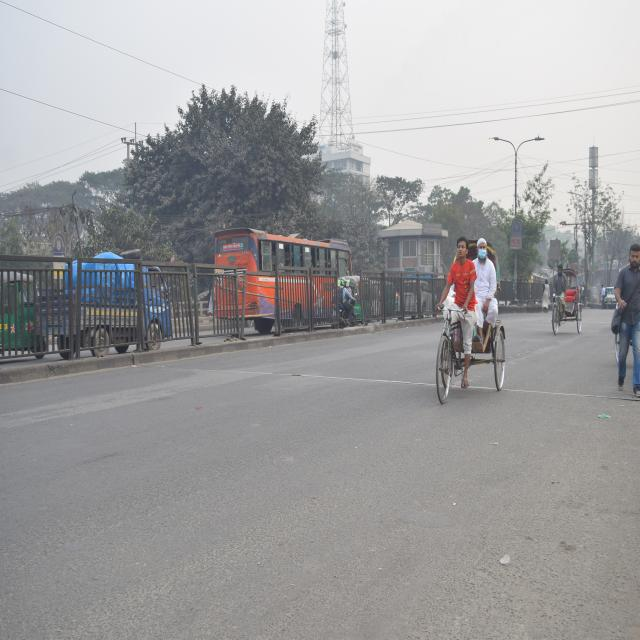microbus: (598, 281, 617, 319)
pickup-van: (202, 200, 370, 365), (38, 234, 179, 379)
